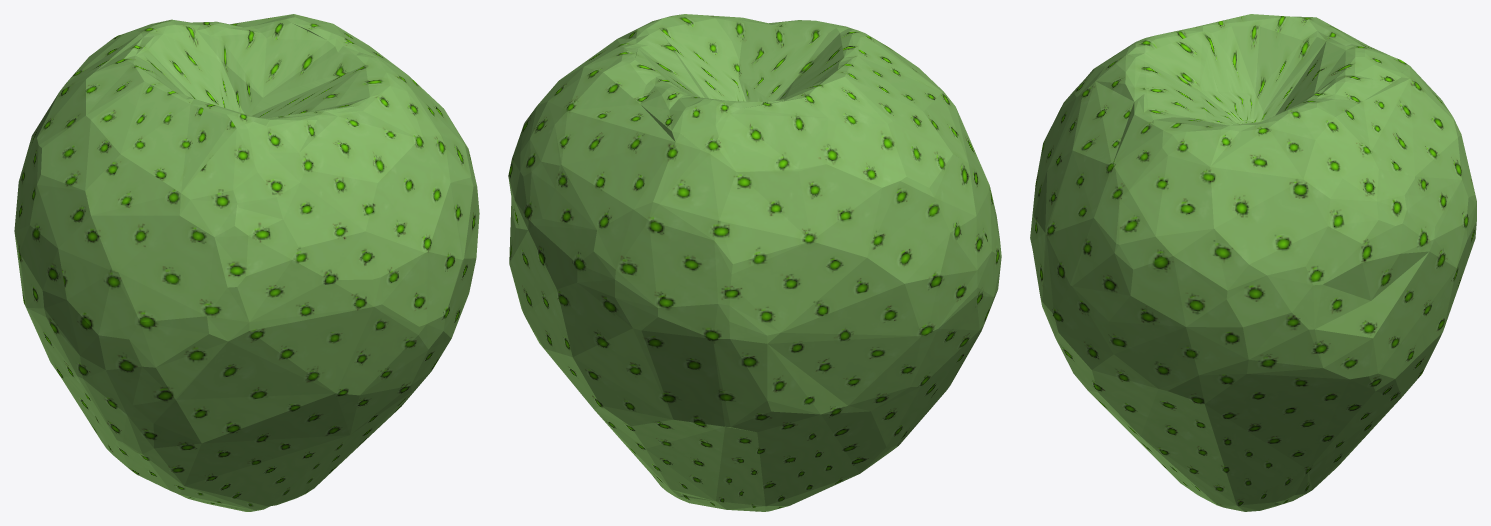
The picture shows the model from 3 angles, left to right: view 1: azimuth 30°, elevation 25°; view 2: azimuth 150°, elevation 25°; view 3: azimuth 270°, elevation 25°; orthographic projection. The views are drawn at different scales.
Parts seen in each view (by area): view 1: _000_Meshed; view 2: _000_Meshed; view 3: _000_Meshed.
Part boxes in pixels (left/top/right/bottom): _000_Meshed: left=14, top=14, right=479, bottom=511; _000_Meshed: left=508, top=14, right=1001, bottom=511; _000_Meshed: left=1030, top=14, right=1476, bottom=511.
Size of the model in its own units: 0.1127 by 0.1067 by 0.1146.
1 material, 1 textured.
